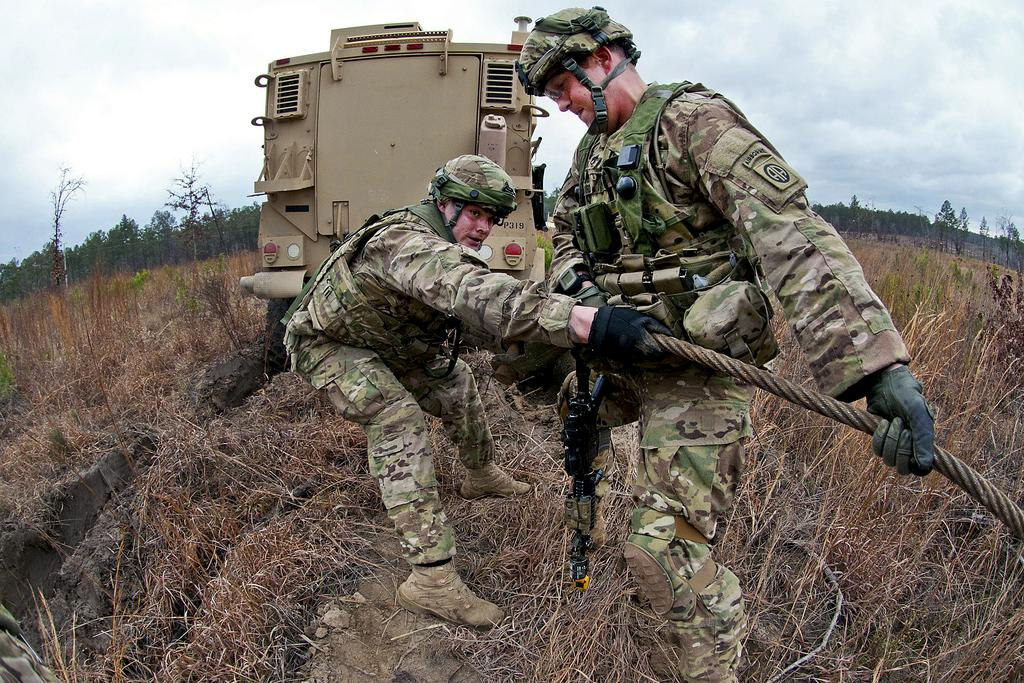non-violence: (512, 0, 934, 682), (302, 104, 544, 662)
weapon: (560, 359, 611, 594)
